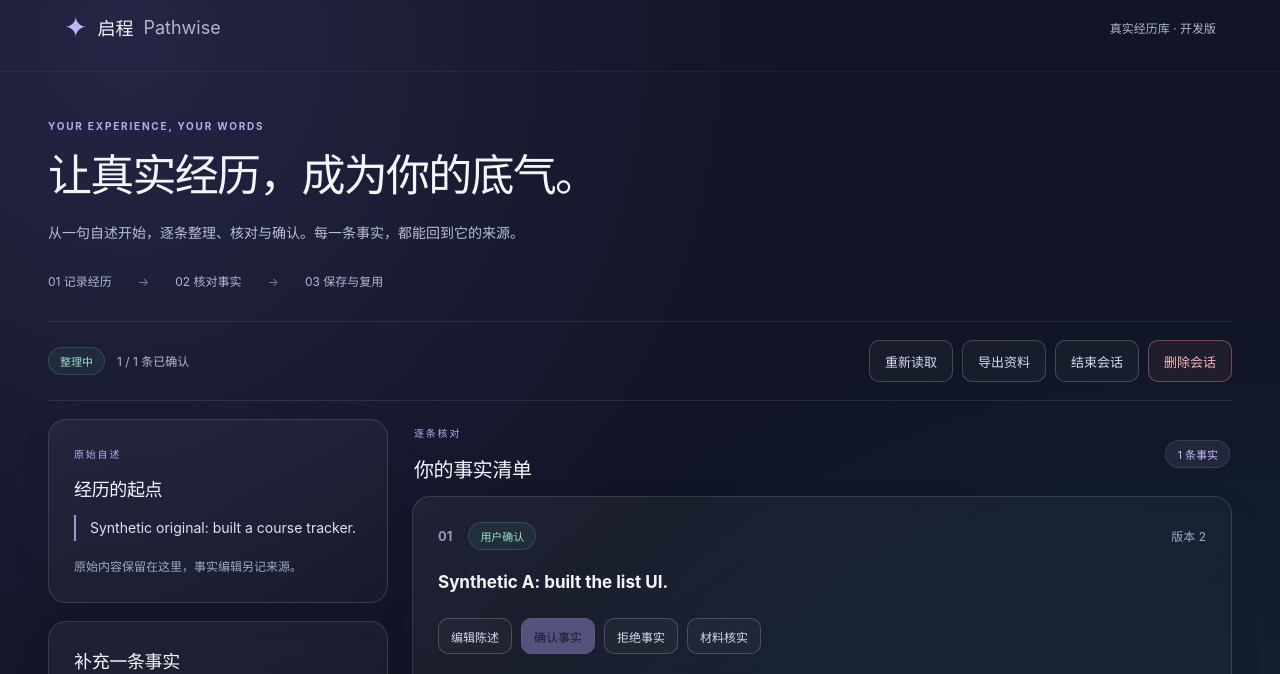
it: experience workspace with recorded FastAPI contracts › blocks writes after a conflict refresh fails until latest data is explicitly retrieved
The image size is (1280, 674).
Click the button "编辑陈述" at (475, 636), box top-left (438, 618), bottom-right (512, 654)
(page scrolled)
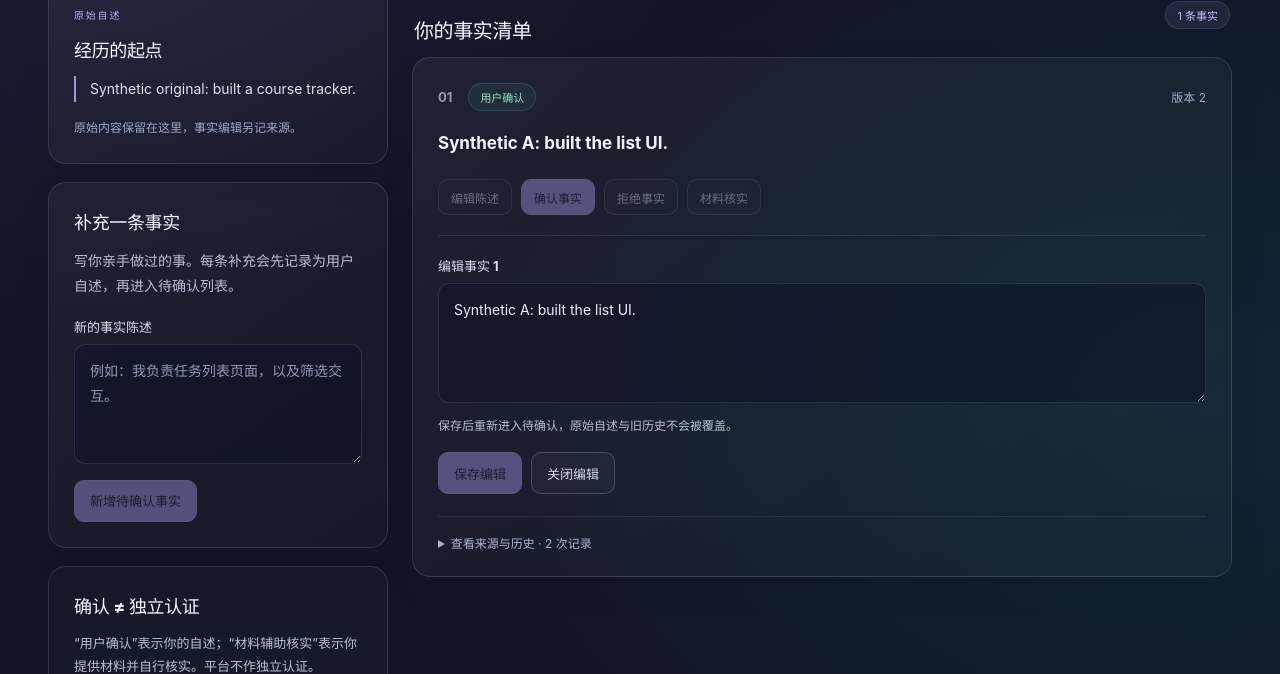
Replace the text in the text box labelled "编辑事实 1" with "Preserved conflict draft" at (822, 343), box top-left (438, 283), bottom-right (1206, 403)
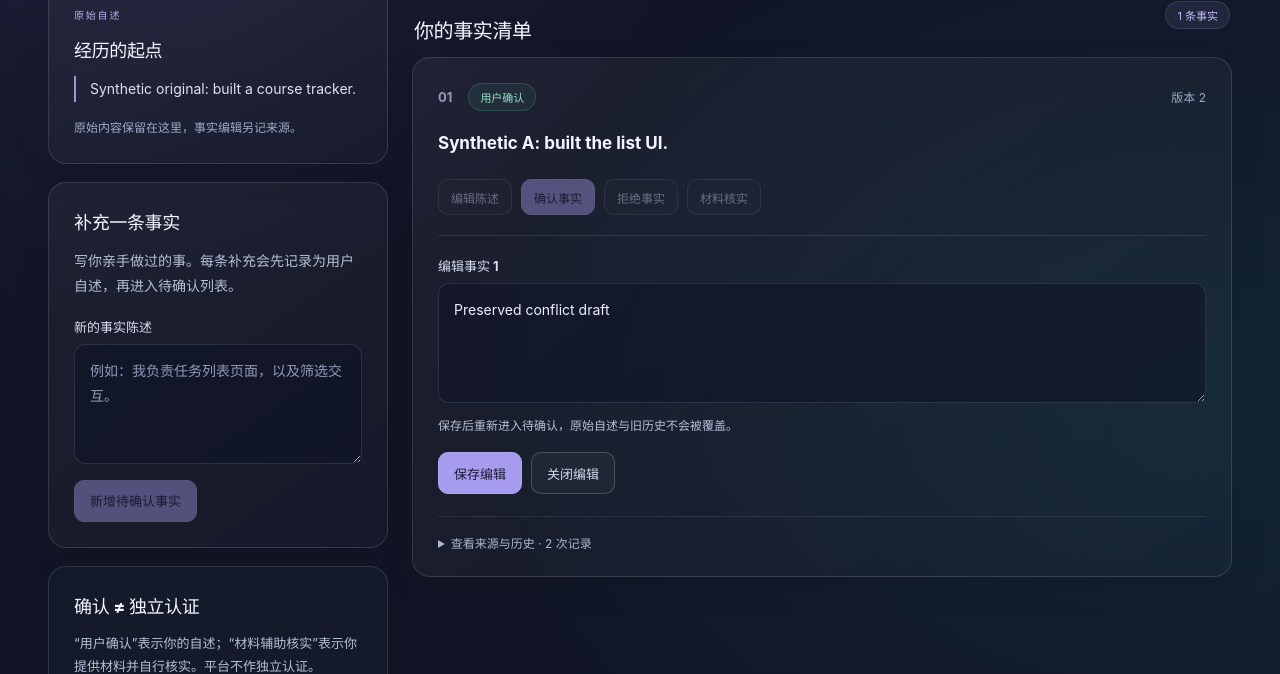
Click the button "保存编辑" at (480, 473), box top-left (438, 452), bottom-right (522, 494)
(page scrolled)
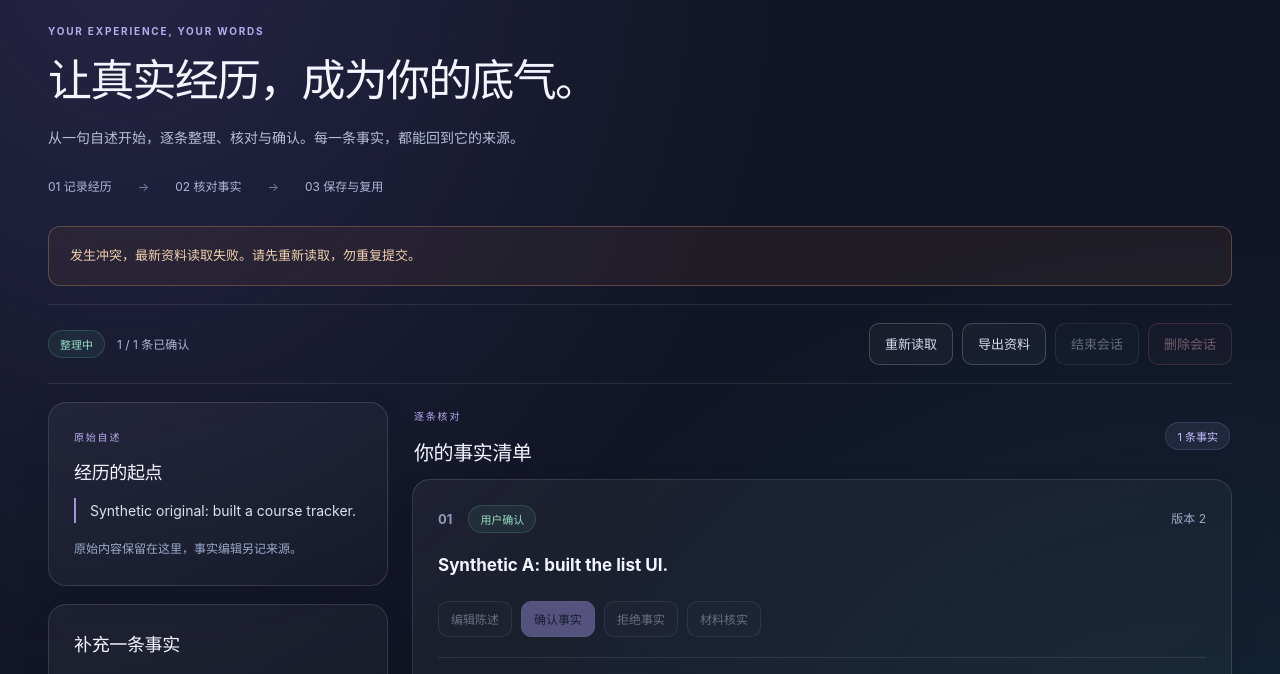
Expected: the message shows "最新资料读取失败", top-left (70, 247), bottom-right (421, 263)
Click the button "重新读取" at (911, 344), box top-left (869, 323), bottom-right (953, 365)
(page scrolled)
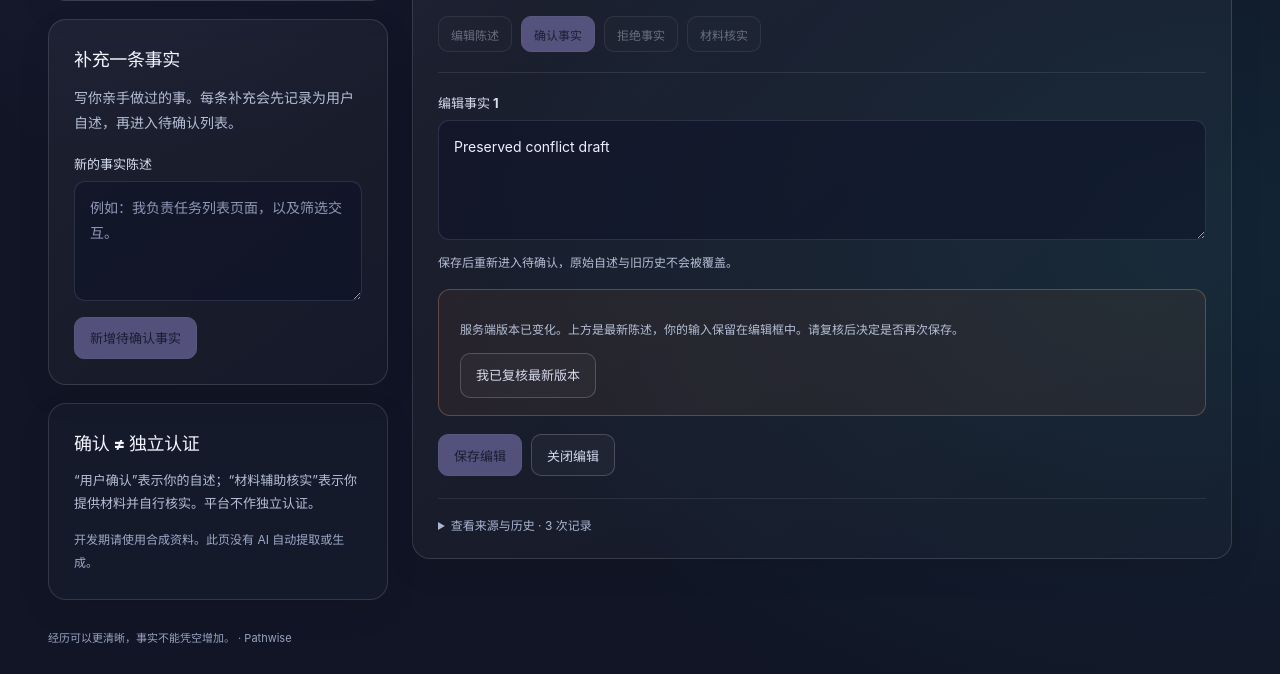
Expected: the button "保存编辑" is disabled, top-left (438, 434), bottom-right (522, 476)
Expected: the button "我已复核最新版本" is shown, top-left (460, 353), bottom-right (596, 398)
